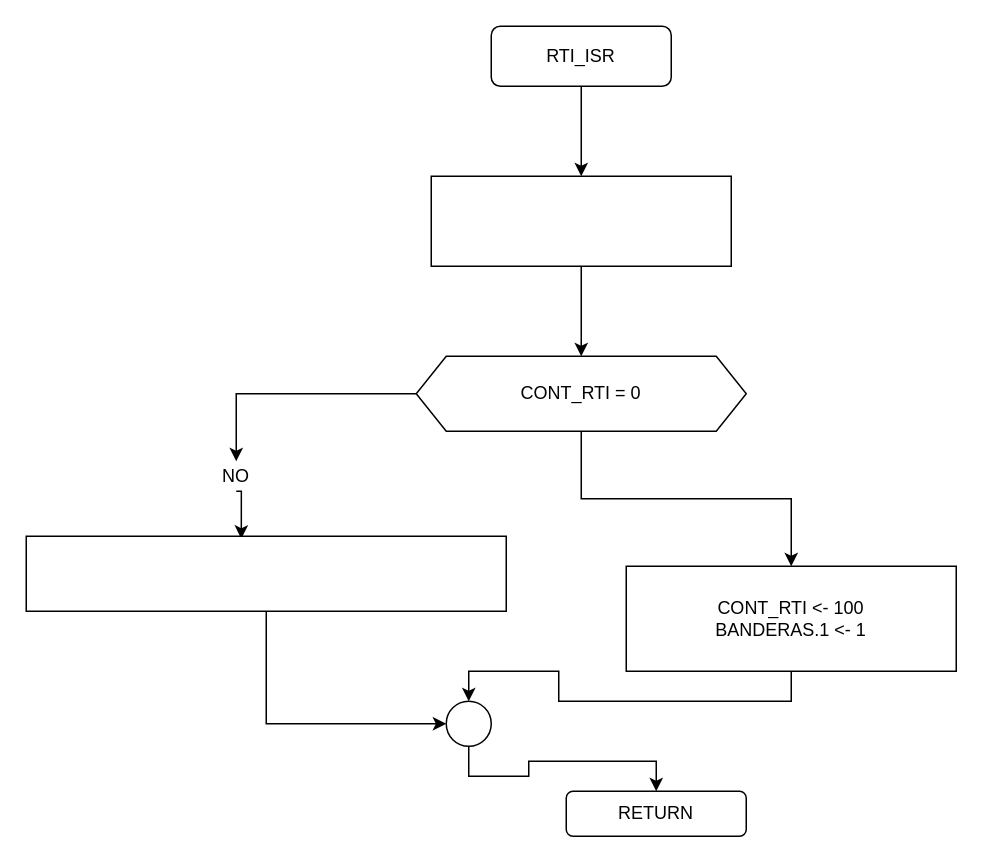
The diagram is 983 pixels wide and 863 high, and some of its shapes have lost their labels. Each missing label, with the centre of its shape:
"CONT_RTI <- (CONT_RTI) -1" goes at point (265, 573).
"CRGFLG.7 <- 1" goes at point (580, 220).
